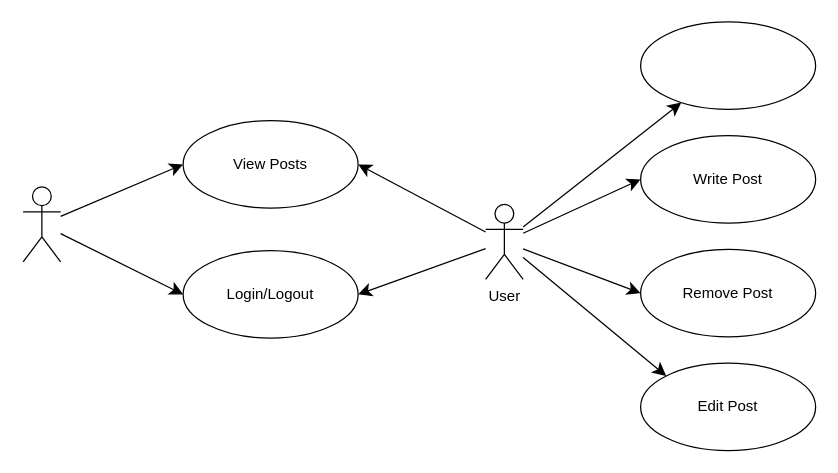
This 838x473 diagram has some shape labels left out. The shapes that lost their labels are listed below. From the top down, each one's centre as x and y in pixels, then its label:
(x=727, y=65): User Page
(x=41, y=224): Visitor
